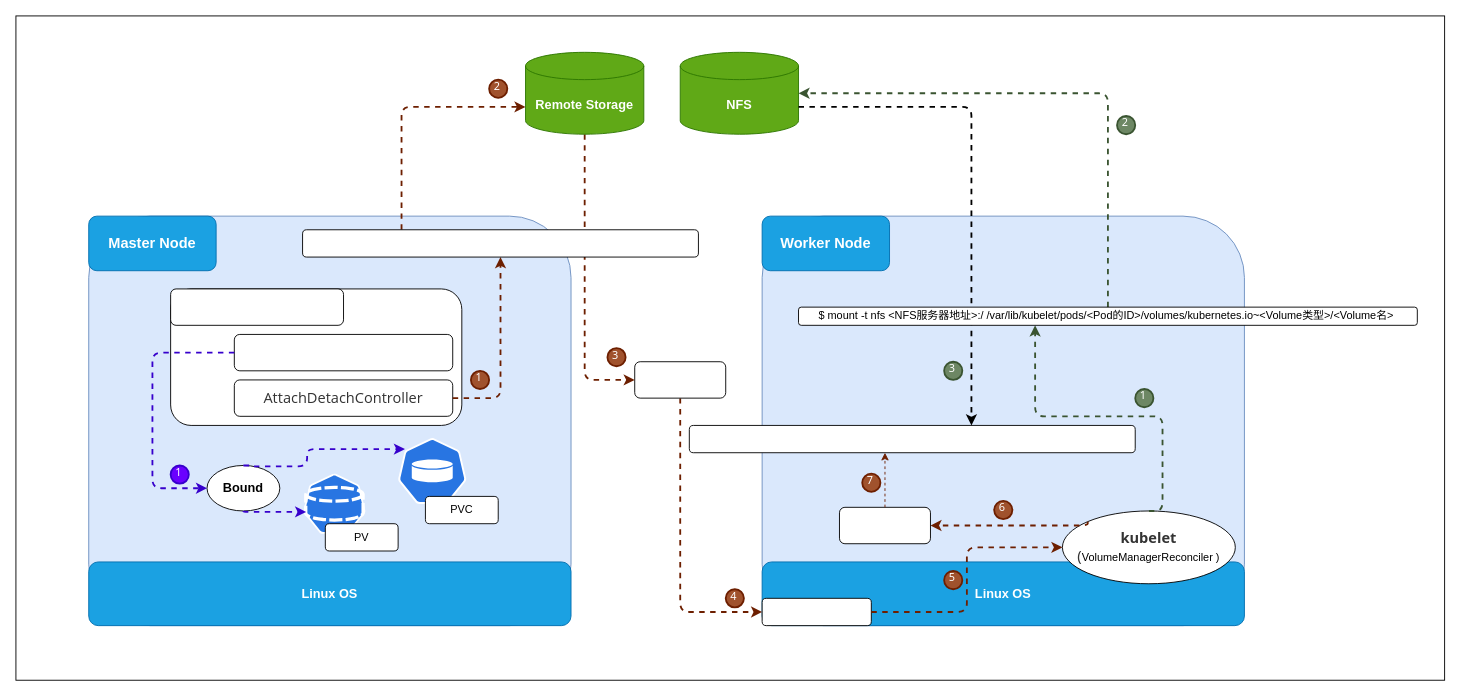
Some shapes in this 1461 by 696 pixel diagram are drawn without their labels. The shapes that lost their labels are listed below. From the top down, each one's centre as x and y in pixels, then its label:
At (500,243): "$ gcloud compute instances attach-disk <虚拟机名字> --disk <远程磁盘名字>".
At (257,306): "kube-controller-manager".
At (343,352): "PersistentVolumeController".
At (680,379): "Attach".
At (911,439): "/var/lib/kubelet/pods/<Pod的ID>/volumes/kubernetes.io~<Volume类型>/<Volume名字>".
At (884,525): "Mount".
At (816,611): "/dev/<磁盘设备ID>".
